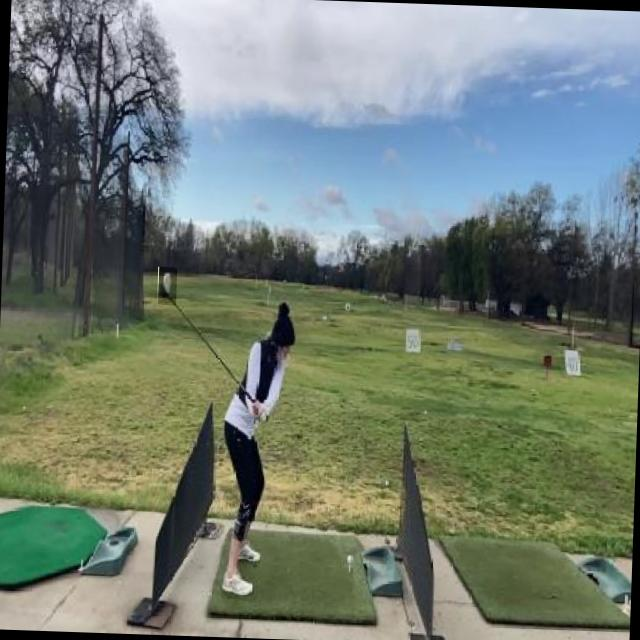club head: (156, 266, 176, 305)
